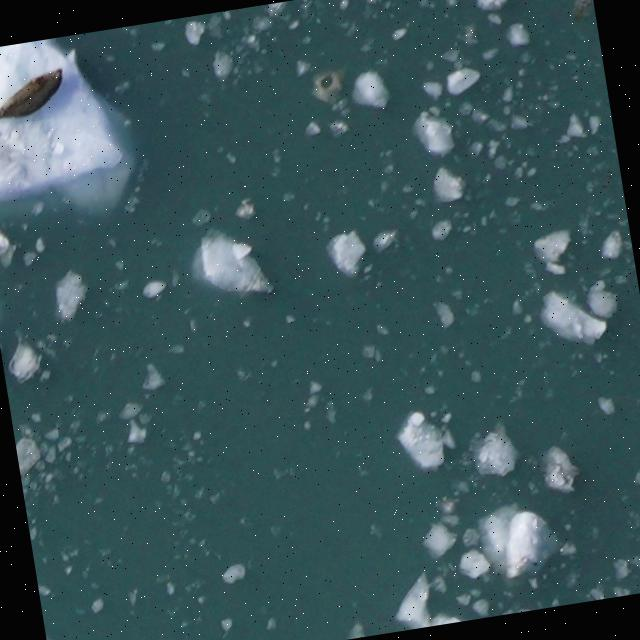seal: (0, 63, 76, 126)
